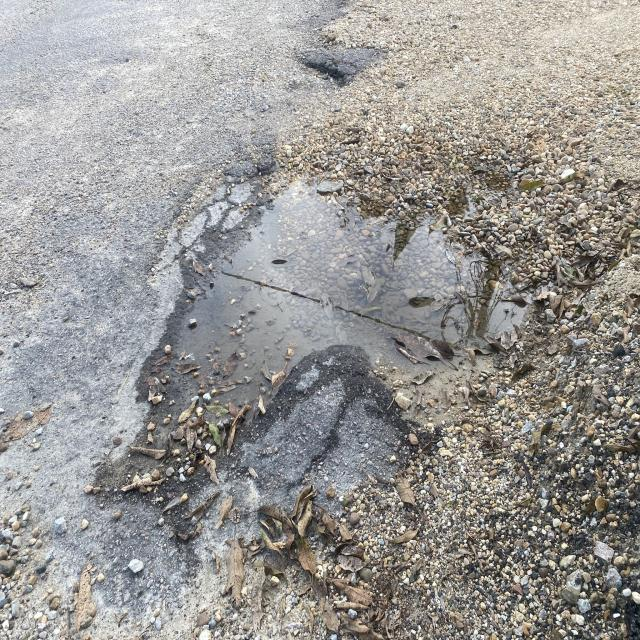pothole: (150, 132, 348, 523), (274, 36, 364, 111)
